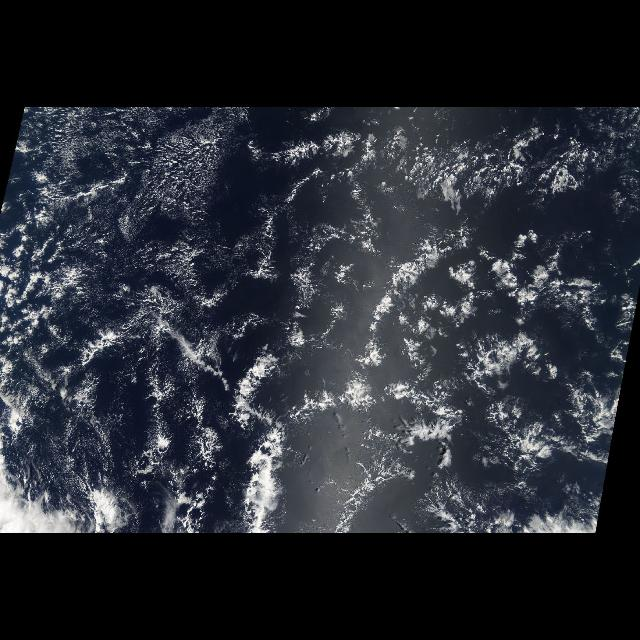Gravel: (28, 113, 240, 361)
Sugar: (12, 108, 230, 230)
